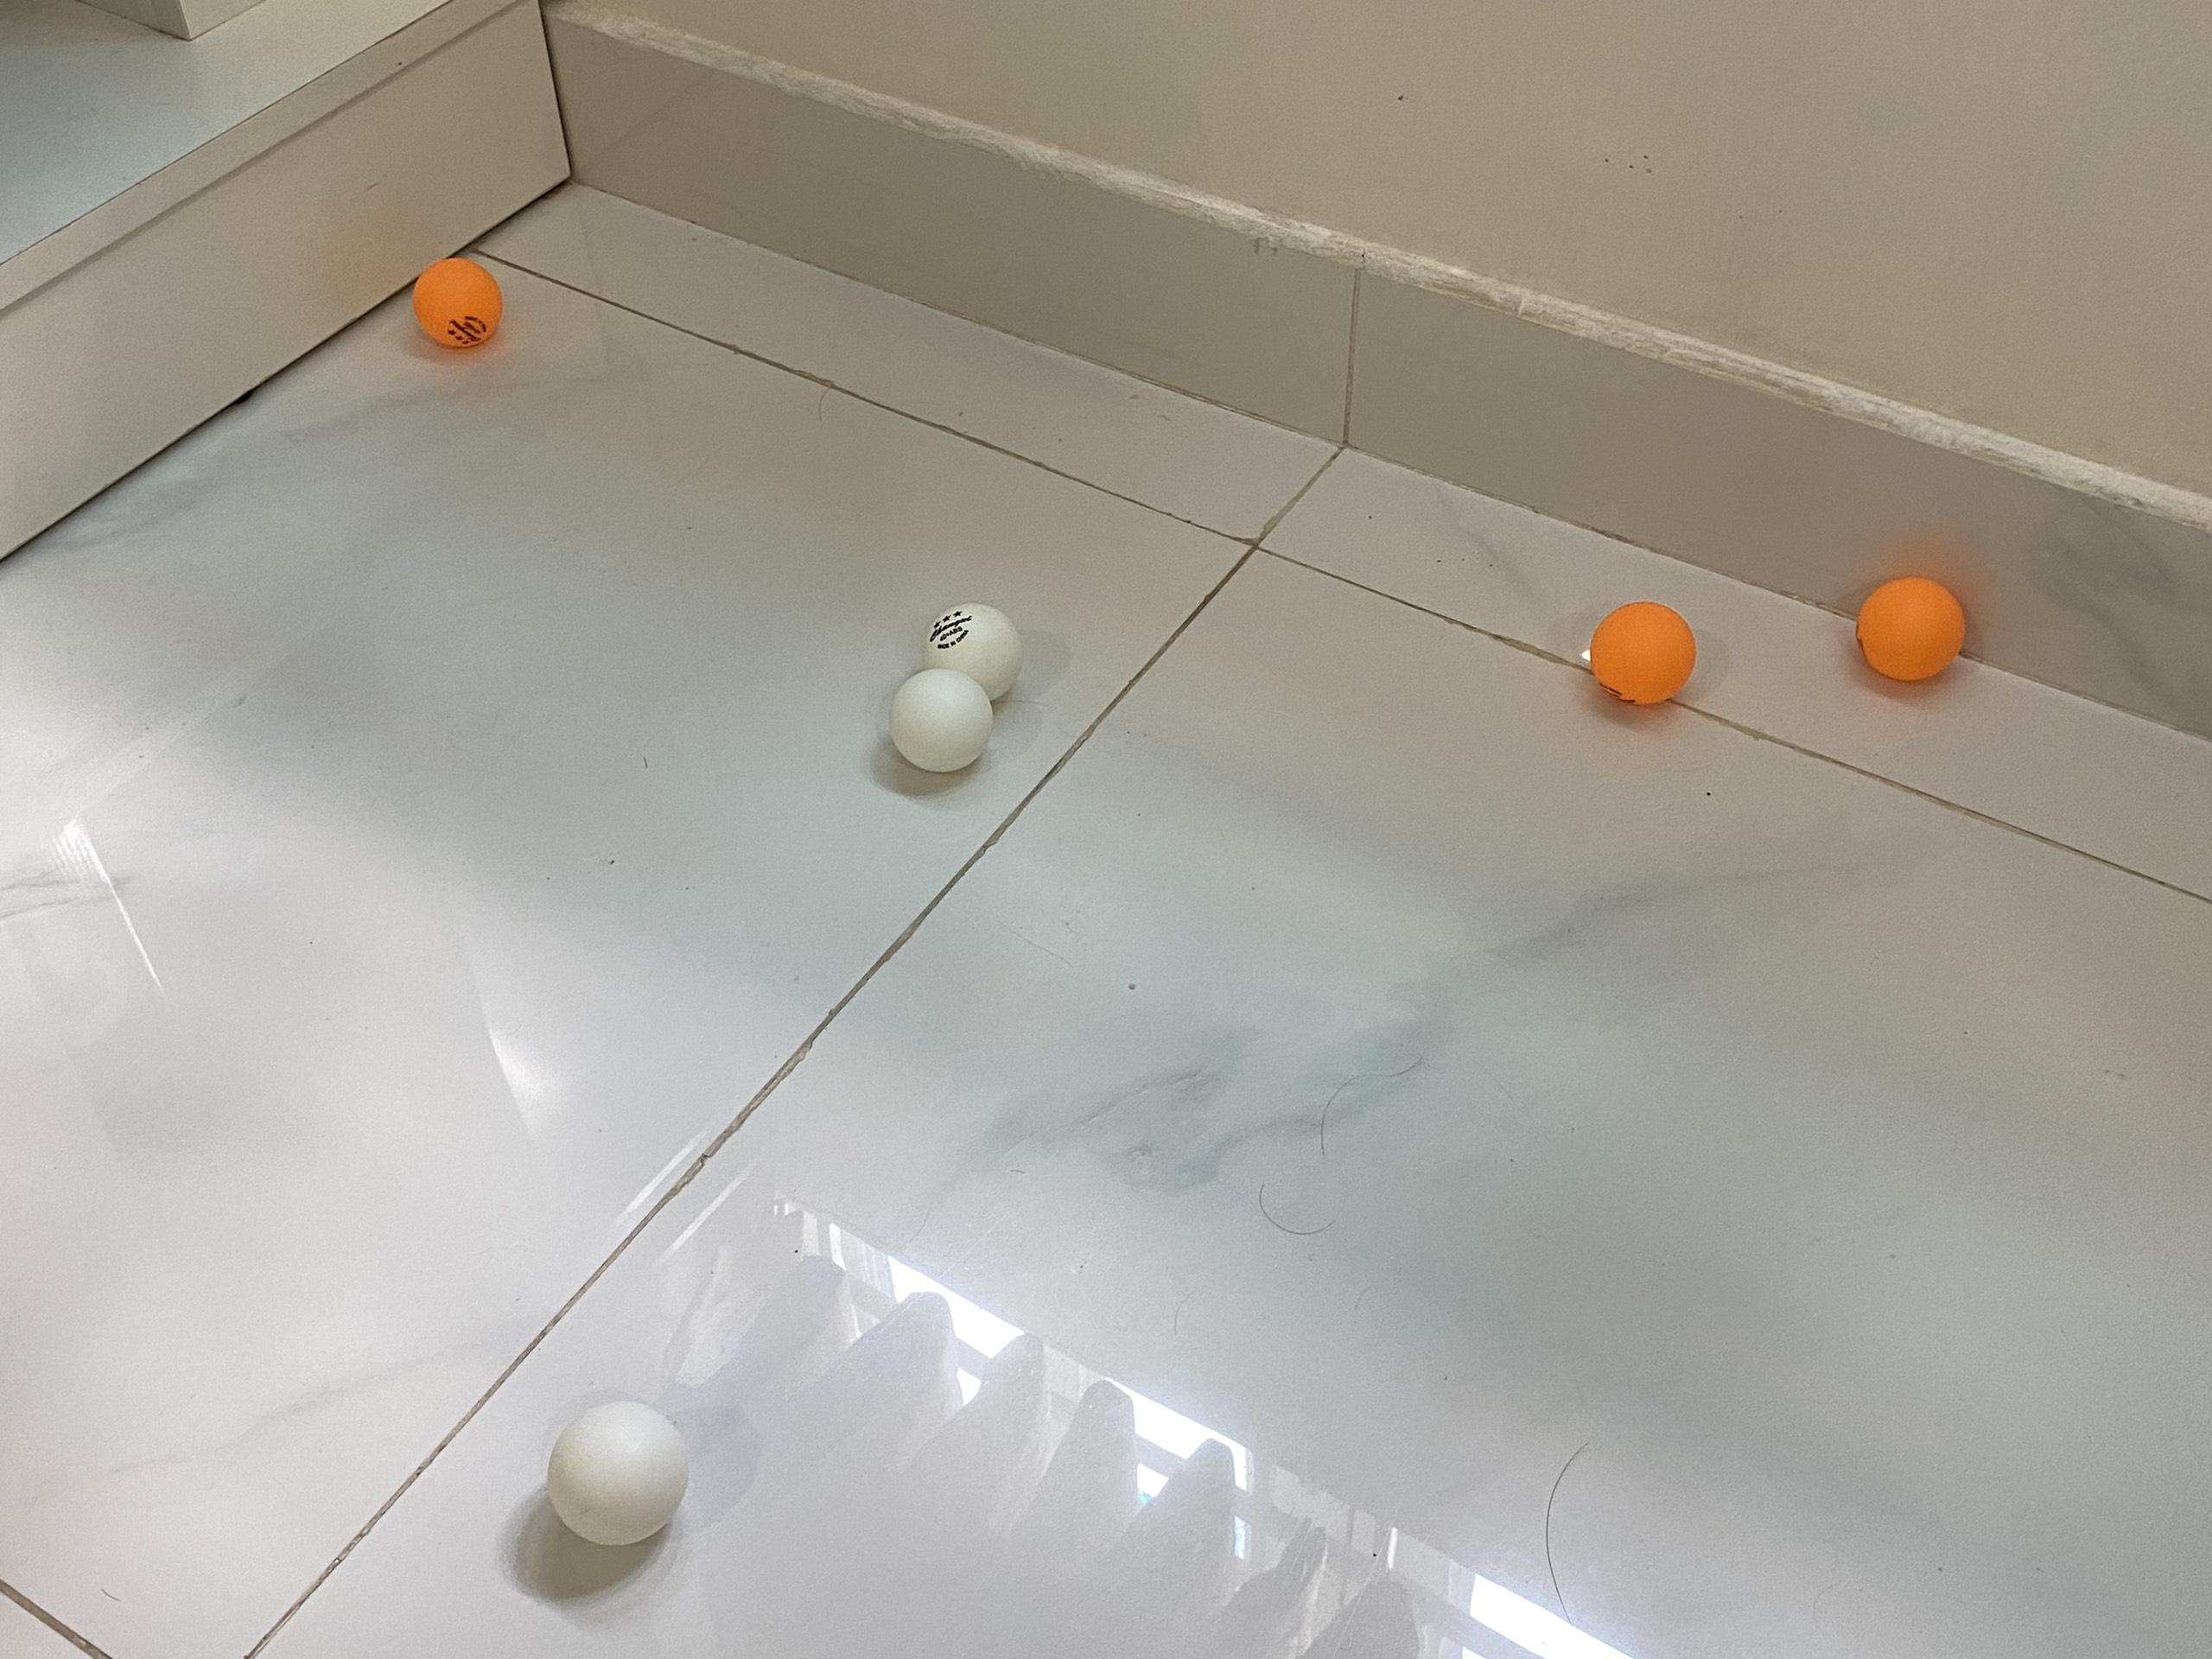oball: (1592, 596, 1700, 711), (1862, 575, 1968, 688), (413, 258, 498, 350)
